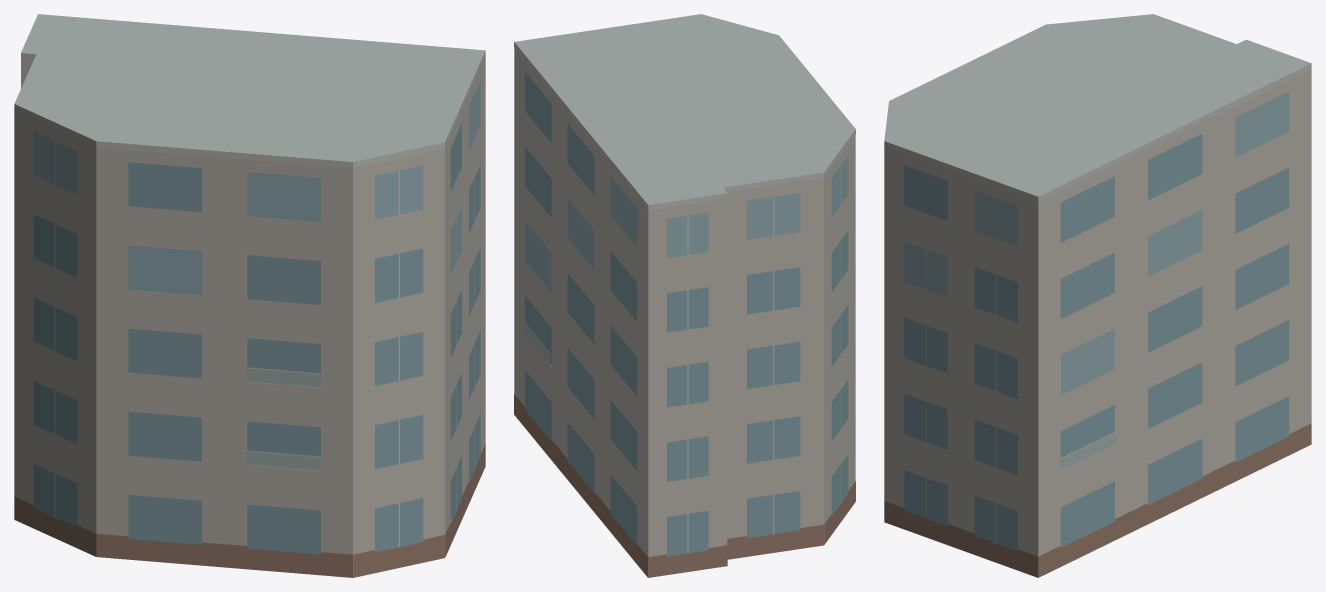
The model's file is survey-upis-32952530.glb.
The picture shows the model from 3 angles, left to right: view 1: azimuth 30°, elevation 25°; view 2: azimuth 150°, elevation 25°; view 3: azimuth 270°, elevation 25°; orthographic projection. The views are drawn at different scales.
Parts seen in each view (by area): view 1: survey-upis-32952530.tmp; view 2: survey-upis-32952530.tmp; view 3: survey-upis-32952530.tmp.
Boxes of the visible parts, x1=… form: survey-upis-32952530.tmp: x1=14, y1=14, x2=485, y2=577; survey-upis-32952530.tmp: x1=514, y1=14, x2=855, y2=577; survey-upis-32952530.tmp: x1=884, y1=14, x2=1311, y2=577.
Size of the model in its own units: 17.18 by 16.7 by 16.98.
